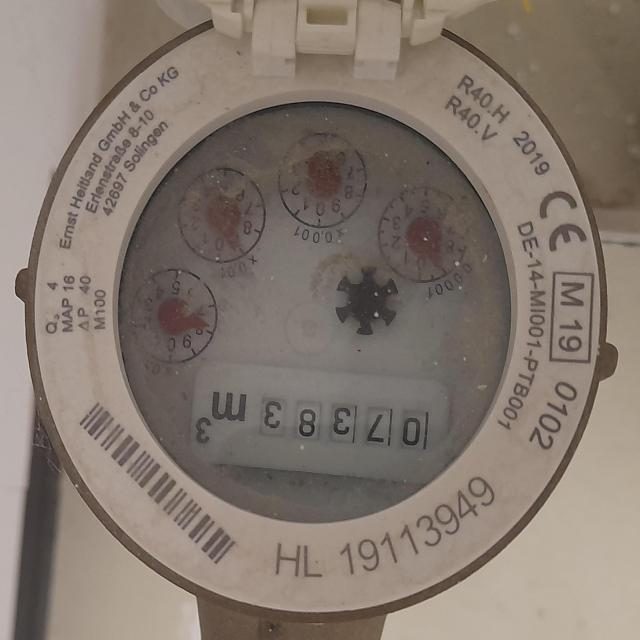gaz_meter: (32, 16, 608, 612)
indication: (248, 381, 435, 464)
